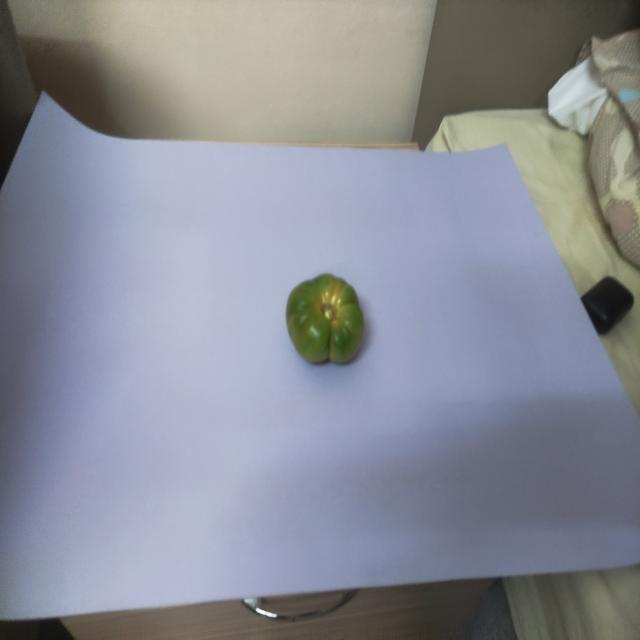yesil: (282, 265, 378, 380)
